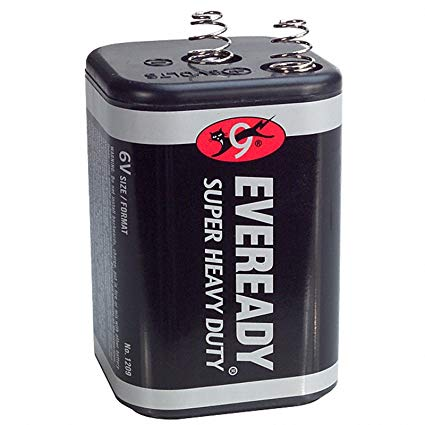6V: (74, 11, 359, 421)
